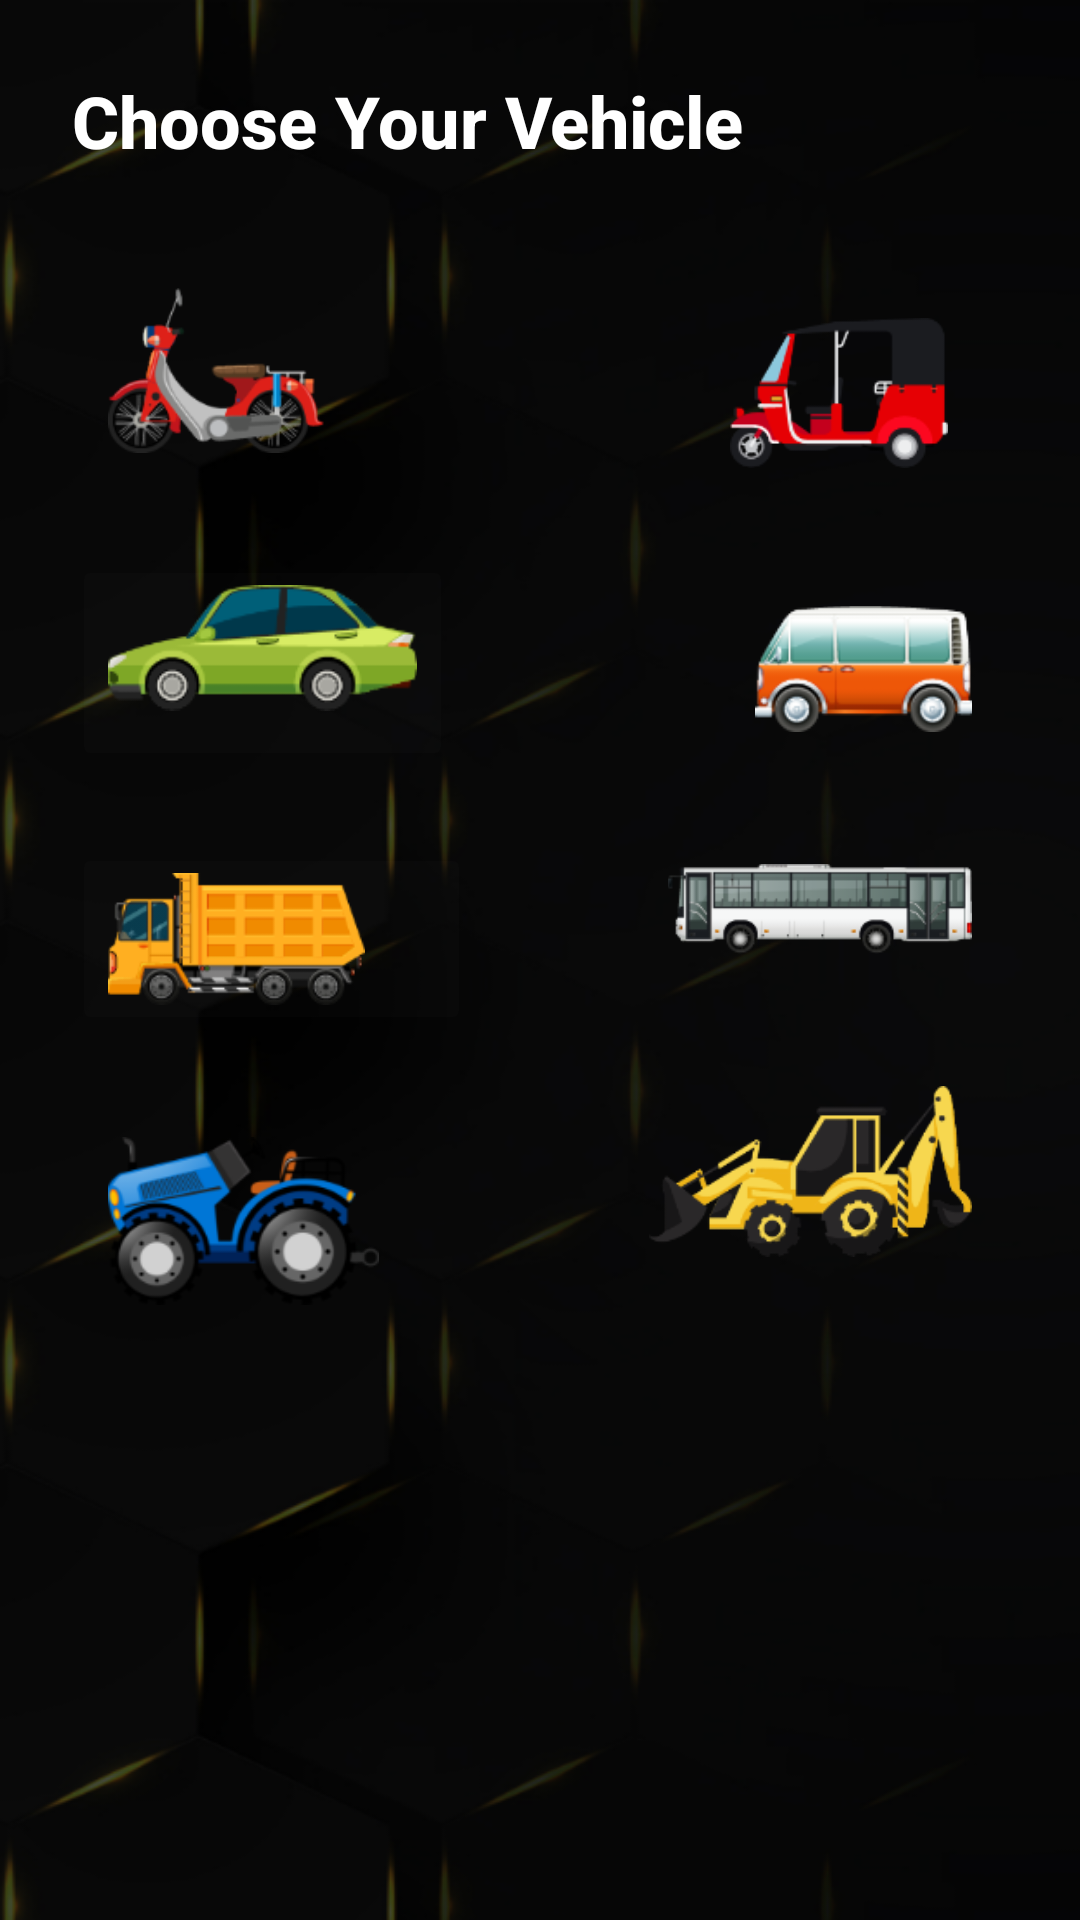

Screen size 1080px x 1920px. Icon name, then its box in pixels as BBox(x1, y1, x2, y2):
Car Button: BBox(72, 555, 417, 713)
Lorry Button: BBox(108, 873, 365, 999)
Motor Cycle Button: BBox(108, 288, 348, 453)
Three Wheel Button: BBox(730, 320, 948, 466)
